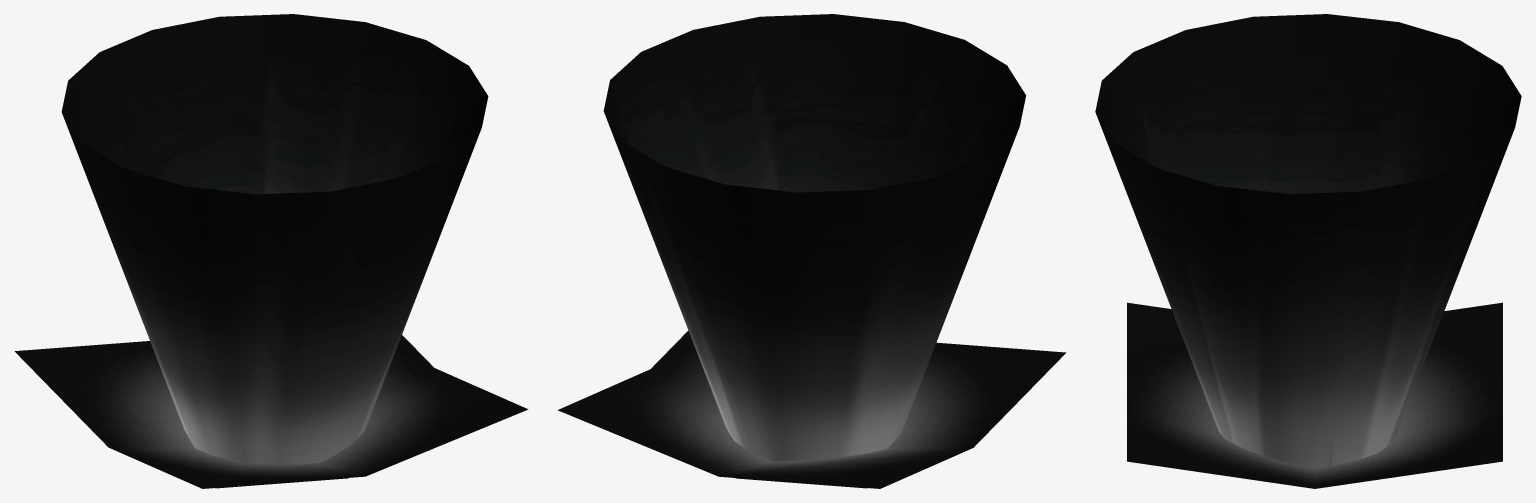
Rendered from Flashlight_muzzle.fbx.
The picture shows the model from 3 angles, left to right: view 1: azimuth 30°, elevation 25°; view 2: azimuth 150°, elevation 25°; view 3: azimuth 270°, elevation 25°; orthographic projection.
Visible parts, largest first — view 1: Plane_001; view 2: Plane_001; view 3: Plane_001.
Boxes of the visible parts, x1,y1,x2,y2 form: Plane_001: (14, 14, 528, 488); Plane_001: (557, 14, 1065, 488); Plane_001: (1095, 14, 1521, 488).
Size of the model in its own units: 1.42 by 1.3 by 1.42.
